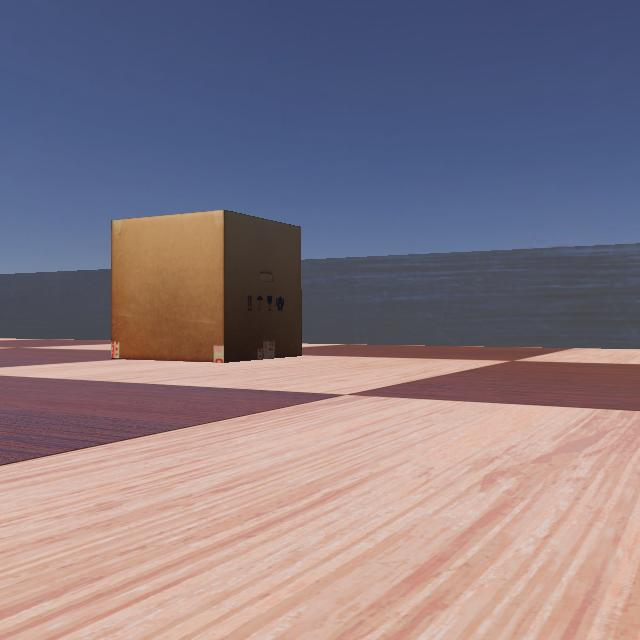cardboard-box: (90, 210, 302, 362)
